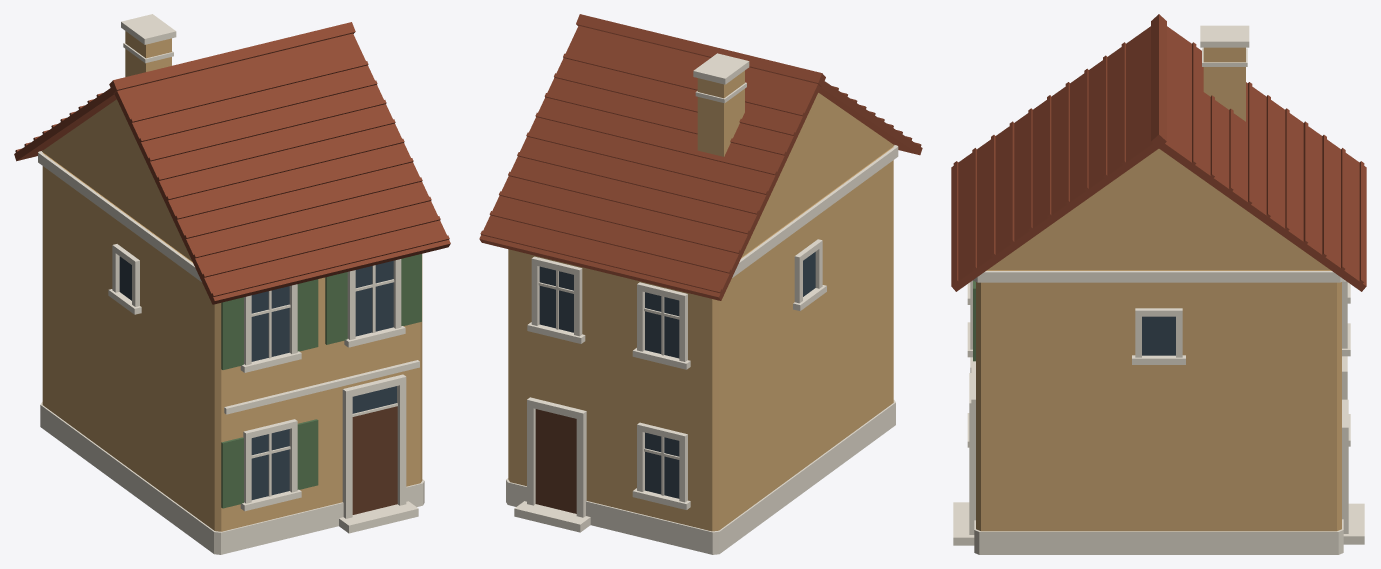
Rendered from maison-b.glb.
3 renders of one model, left to right at view 1: azimuth 30°, elevation 25°; view 2: azimuth 150°, elevation 25°; view 3: azimuth 270°, elevation 25°, orthographic. The views are drawn at different scales.
Parts seen in each view (by area): view 1: maison-b; view 2: maison-b; view 3: maison-b.
Boxes of the visible parts, x1,y1,x2,y2 form: maison-b: [14, 14, 450, 554]; maison-b: [479, 14, 922, 554]; maison-b: [951, 14, 1366, 554].
Bounding box in the file's own units: 5.06 × 8.66 × 7.37.
